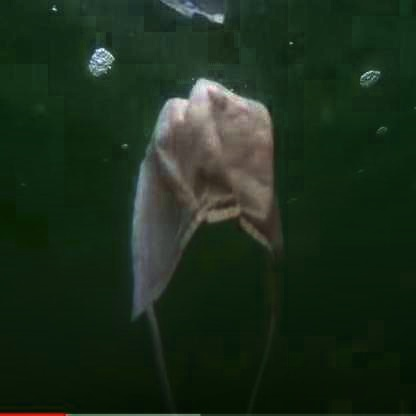Mask: (132, 75, 289, 415)
